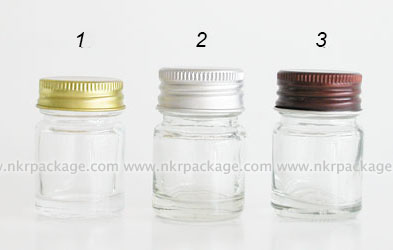glass_bottle: (266, 65, 375, 224), (145, 63, 250, 227), (32, 72, 130, 222)
